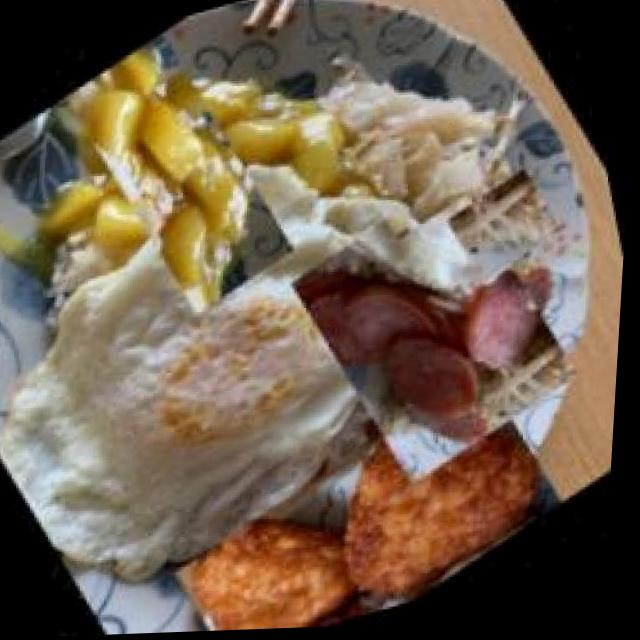chinese_cabbage: (298, 4, 547, 259)
chinese_sausage: (263, 159, 617, 507)
curry: (13, 3, 340, 325)
fried_eggs: (0, 89, 507, 637)
mung_bean_sprouts: (443, 166, 576, 295)
rice: (12, 214, 141, 332)
triangle_hash_brown: (150, 352, 591, 635)
